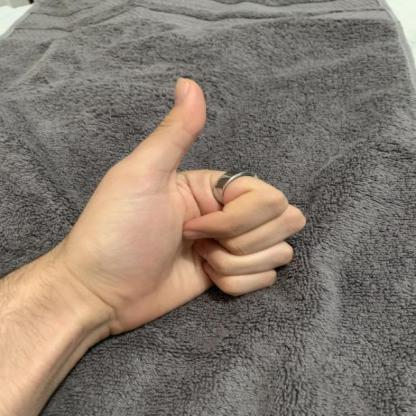Thumbs-Up: (1, 69, 313, 344)
